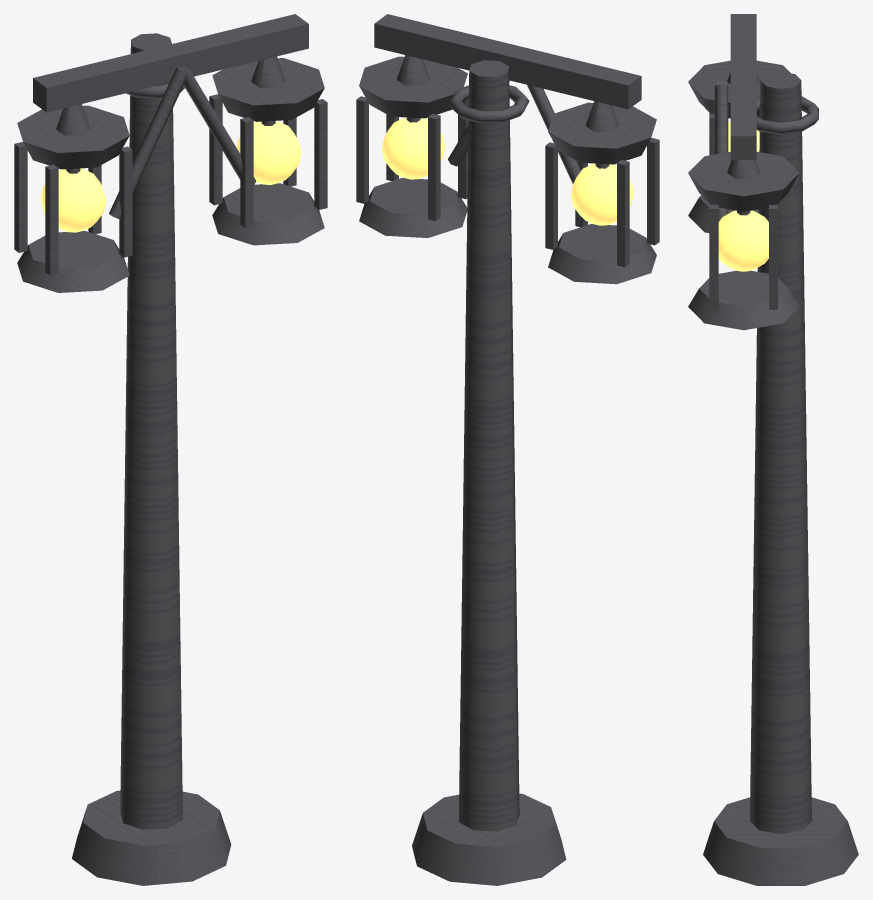
Rendered from village_approach_lamp.glb.
The picture shows the model from 3 angles, left to right: view 1: azimuth 30°, elevation 25°; view 2: azimuth 150°, elevation 25°; view 3: azimuth 270°, elevation 25°; orthographic projection. The views are drawn at different scales.
Visible parts, largest first — view 1: al3_0, al3_1; view 2: al3_0, al3_1; view 3: al3_0, al3_1.
Boxes of the visible parts, x1,y1,x2,y2 form: al3_0: (14, 14, 327, 885); al3_1: (40, 120, 301, 232); al3_0: (356, 14, 659, 885); al3_1: (381, 117, 634, 225); al3_0: (688, 14, 858, 885); al3_1: (718, 121, 768, 271).
Size of the model in its own units: 0.88 by 2.32 by 0.46.
Materials: 2 (1 with a texture image).
